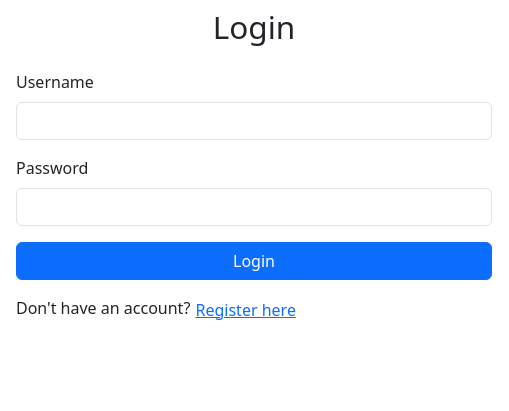
Scenario: LoginPage Component › displays error message on login failure
This screenshot has width=509, height=411.
Step 1. Type "wronguser" into the field labelled "Username" → (254, 121), box [16, 102, 492, 140]
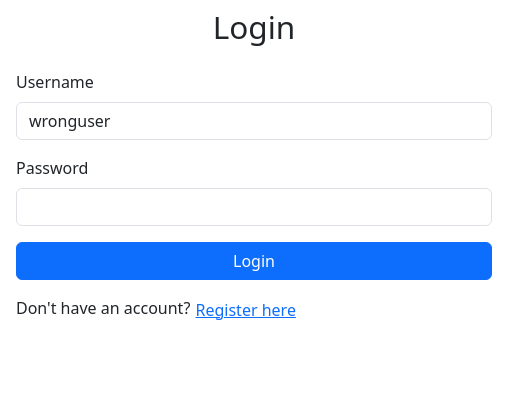
Step 2. Type "wrongpass" into the password field labelled "Password" → (254, 207), box [16, 188, 492, 226]
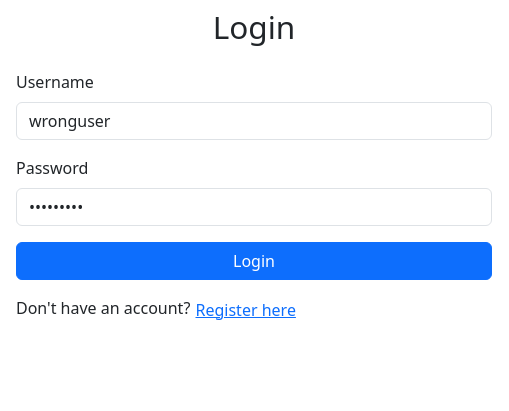
Step 3. Submit the form from the button "Login", box [16, 242, 492, 280]
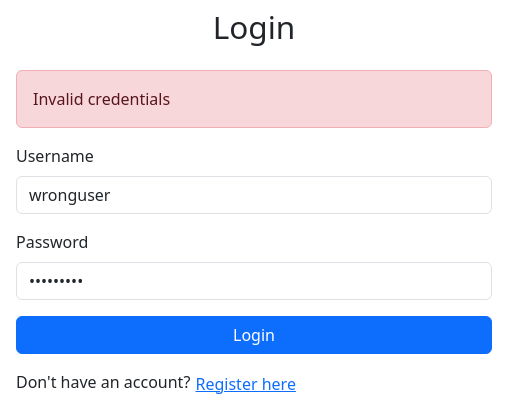
Expected: the text "Invalid credentials" is shown, [16, 70, 492, 128]
